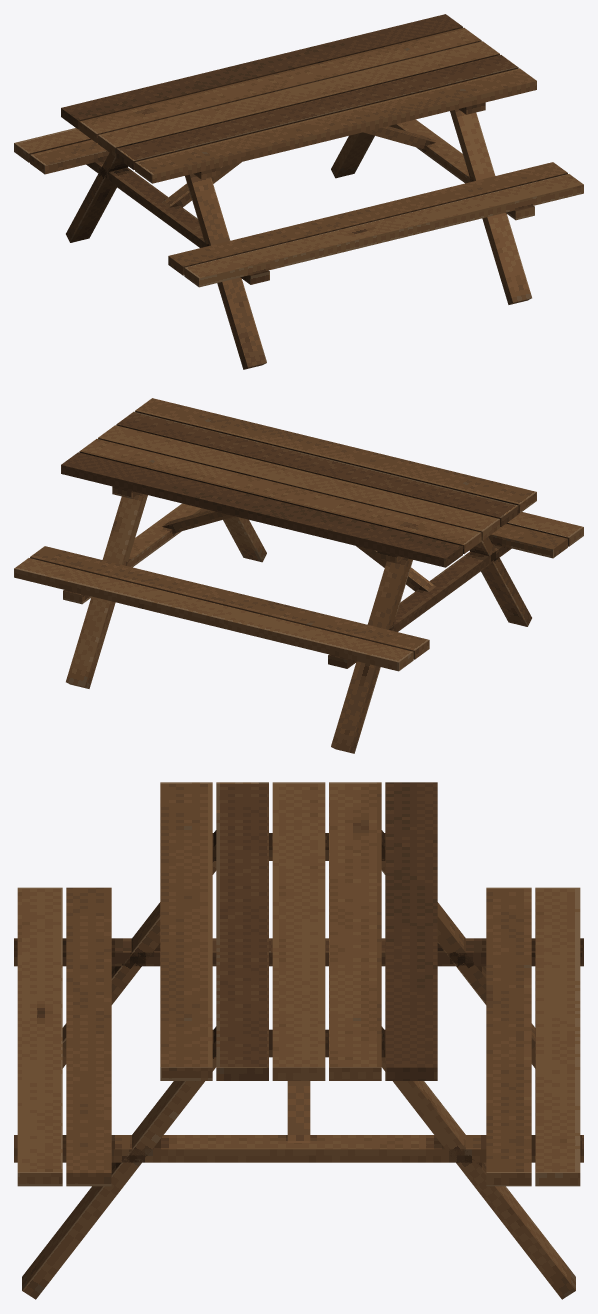
File: Picnic_Table_01.glb
The picture shows the model from 3 angles, top to bottom: view 1: azimuth 30°, elevation 25°; view 2: azimuth 150°, elevation 25°; view 3: azimuth 270°, elevation 25°; orthographic projection. The views are drawn at different scales.
Visible parts, largest first — view 1: Picnic_Table_01; view 2: Picnic_Table_01; view 3: Picnic_Table_01.
Boxes of the visible parts, <box> form: Picnic_Table_01: <box>14,14,583,369</box>; Picnic_Table_01: <box>14,398,583,753</box>; Picnic_Table_01: <box>14,782,583,1299</box>.
Size of the model in its own units: 1.8 by 0.7929 by 1.52.
Materials: 1 (1 with a texture image).
